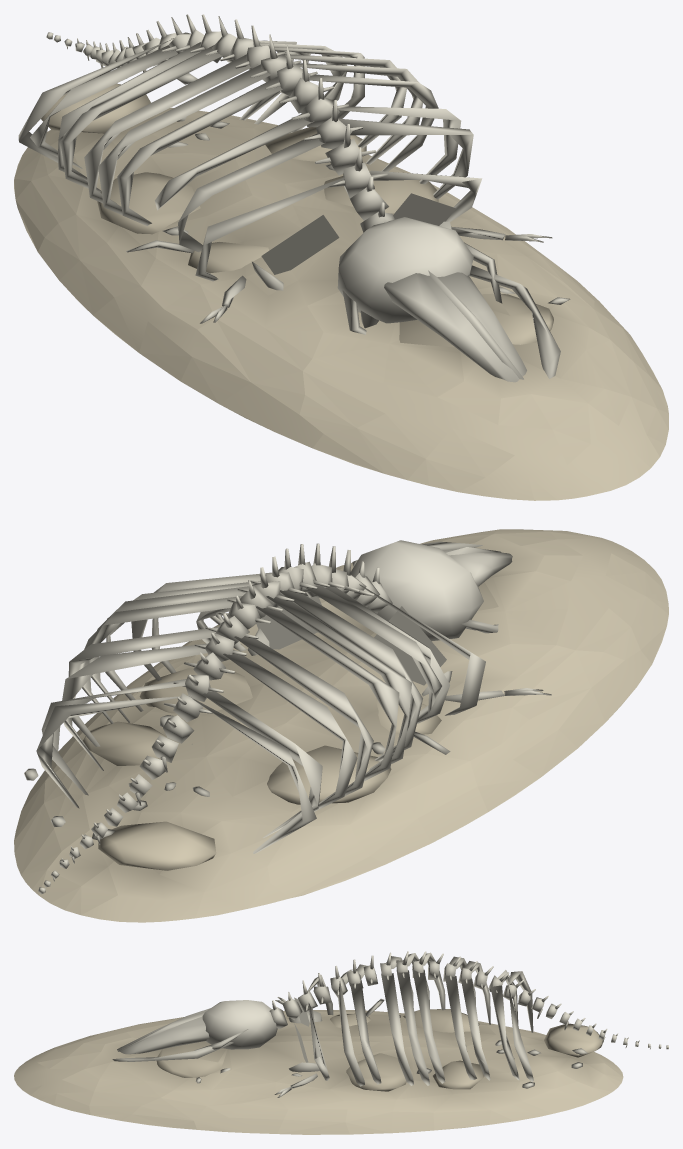
The model's file is whale_skeleton_far.glb.
3 renders of one model, top to bottom at view 1: azimuth 30°, elevation 25°; view 2: azimuth 150°, elevation 25°; view 3: azimuth 270°, elevation 25°, orthographic. The views are drawn at different scales.
Visible parts, largest first — view 1: whale_skeleton; view 2: whale_skeleton; view 3: whale_skeleton.
Part boxes in pixels (x1,y1,x2,y2): whale_skeleton: (14, 14, 668, 500); whale_skeleton: (14, 529, 668, 922); whale_skeleton: (14, 951, 668, 1134).
Bounding box in the file's own units: 11.16 × 5.71 × 26.66.
